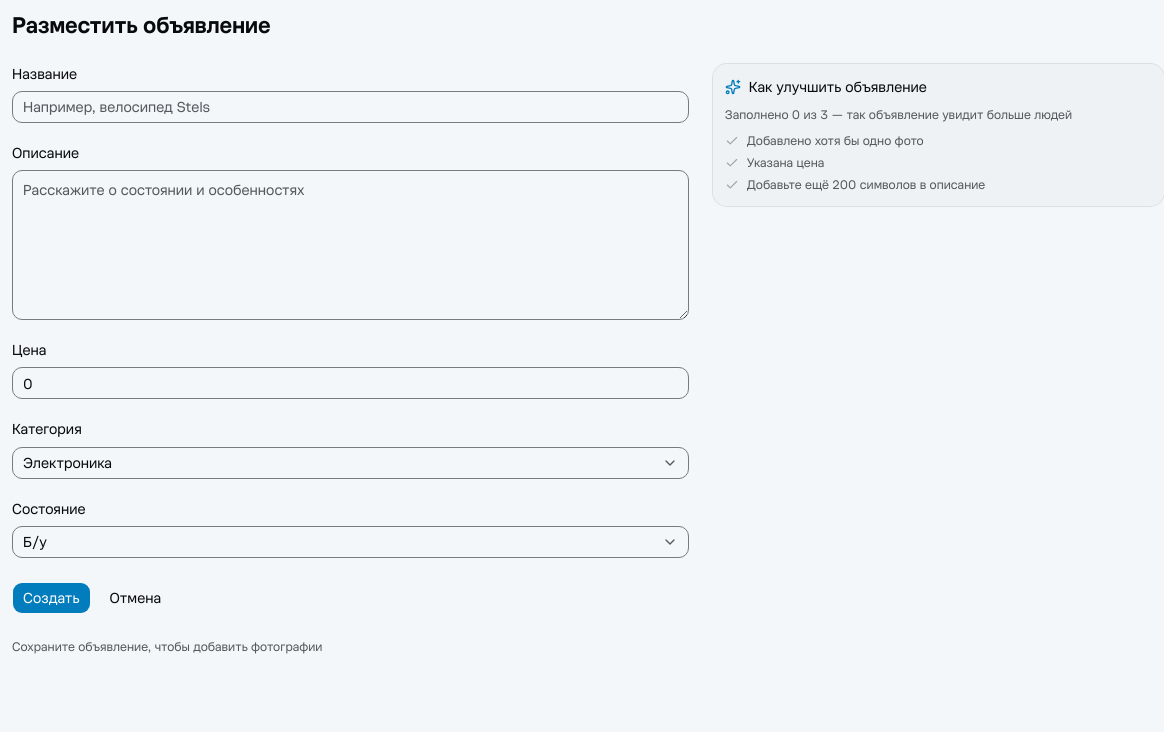
Test: ItemCreateScreen › reports a failed creation without losing input
Type "Велосипед Stels" into the field labelled "Название" at (350, 107), box top-left (12, 91), bottom-right (689, 123)
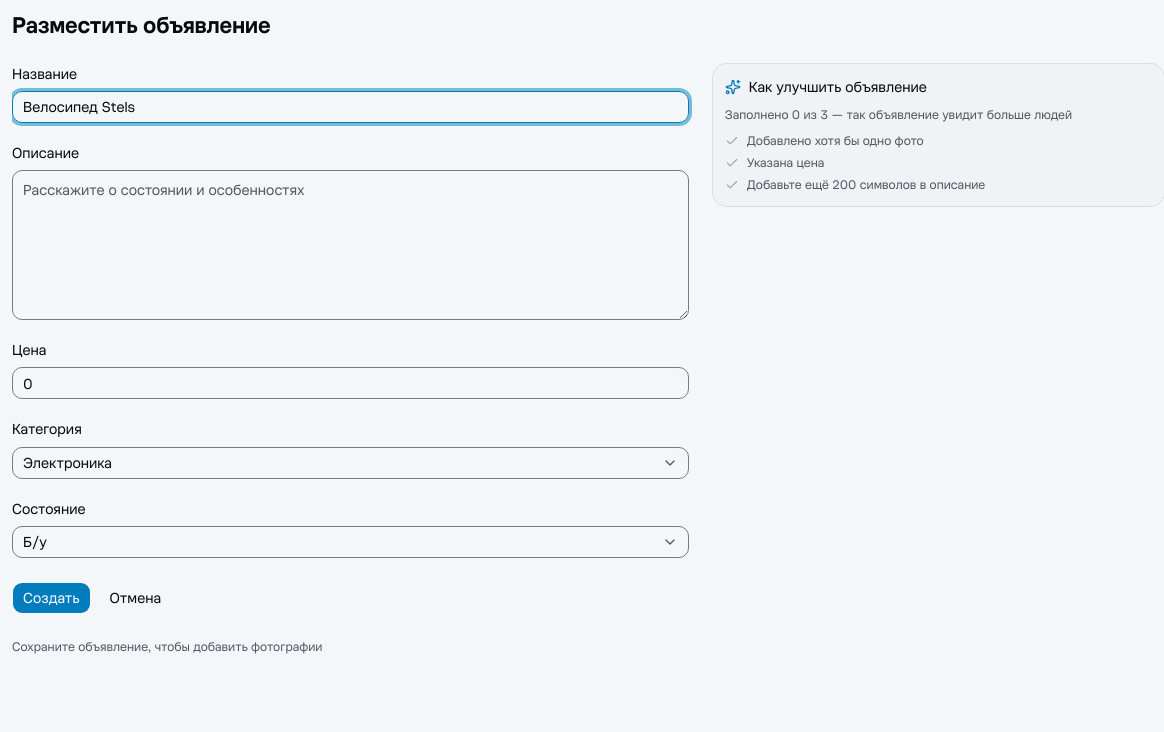
Type "Отличное состояние" into the text box labelled "Описание" at (350, 245), box top-left (12, 170), bottom-right (689, 320)
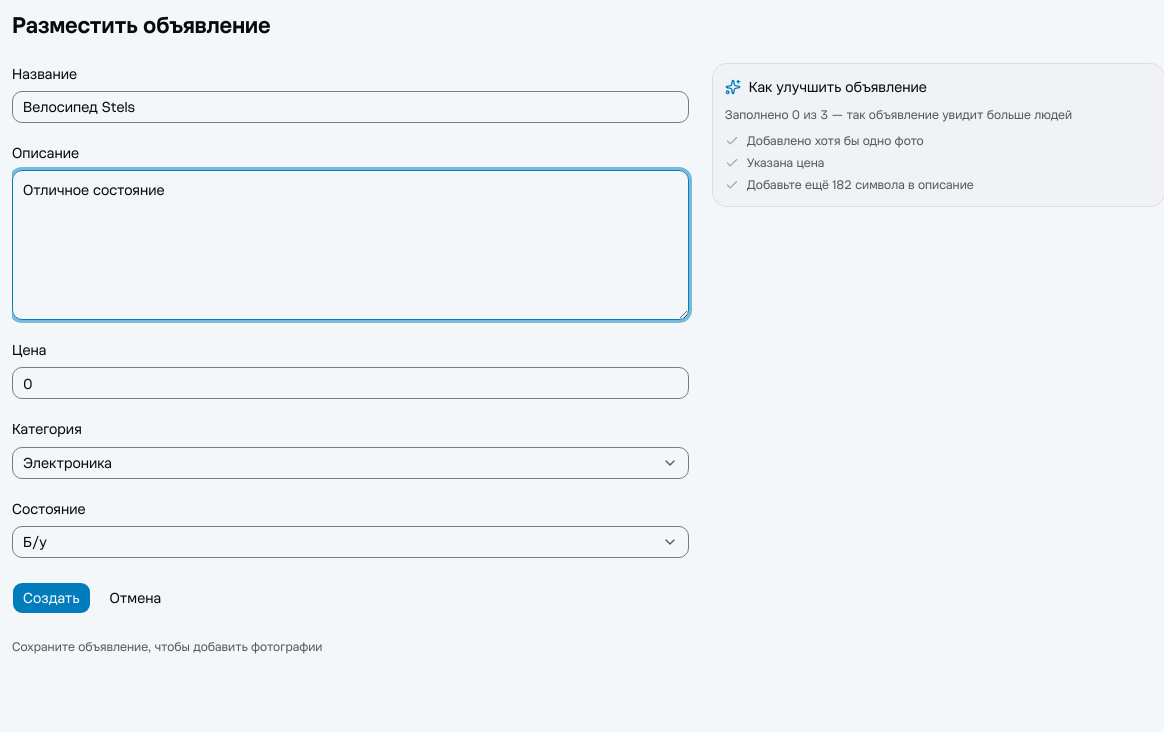
Type "100" into the number field labelled "Цена" at (350, 383), box top-left (12, 367), bottom-right (689, 399)
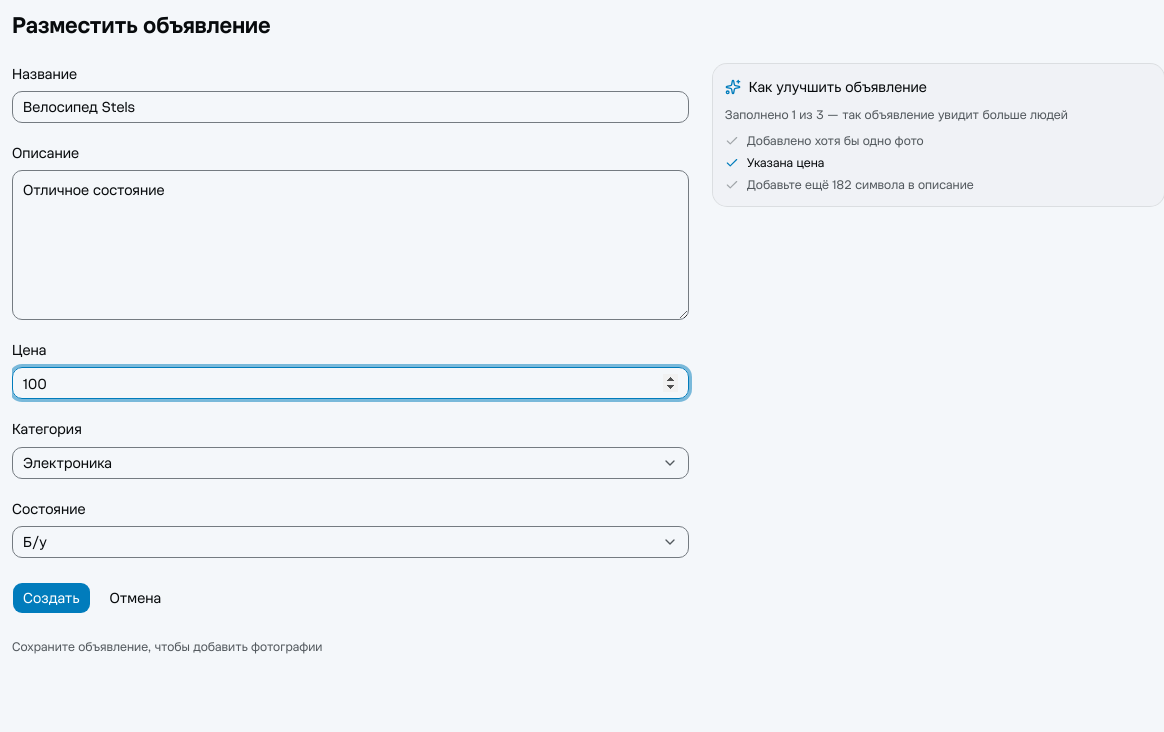
Click the button "Создать" at (51, 598), box top-left (12, 582), bottom-right (90, 614)
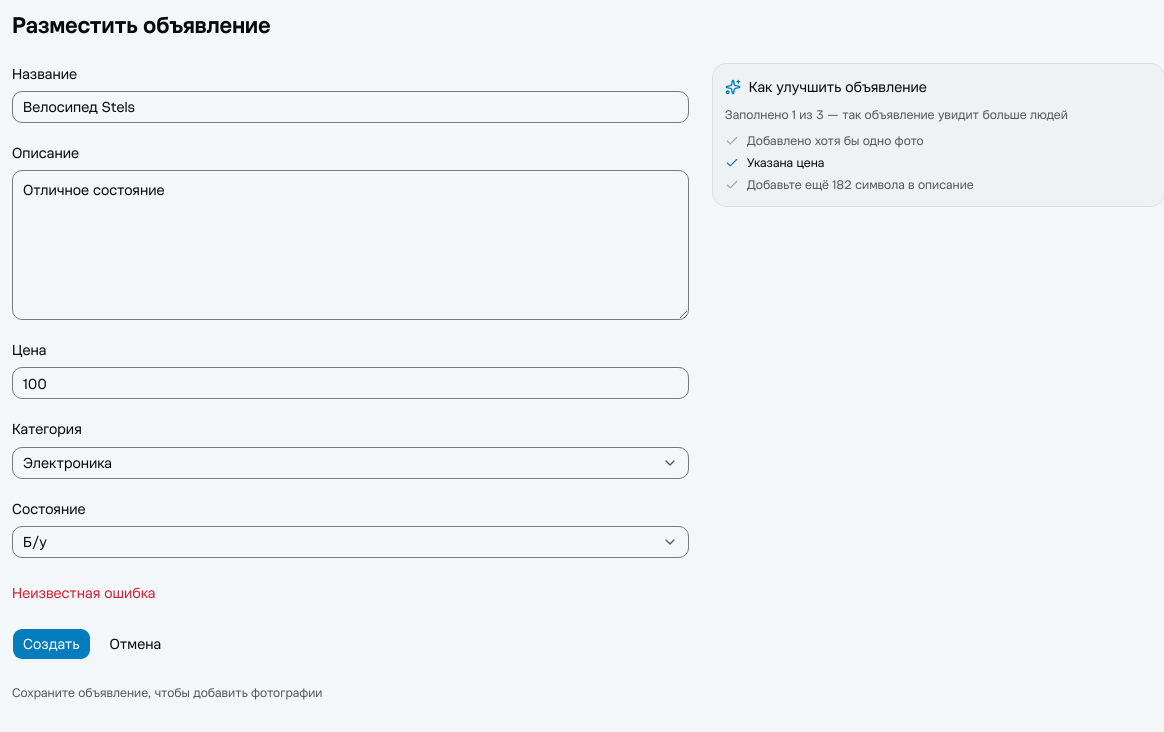
Expected: the message reads "Неизвестная ошибка", top-left (12, 583), bottom-right (156, 602)
